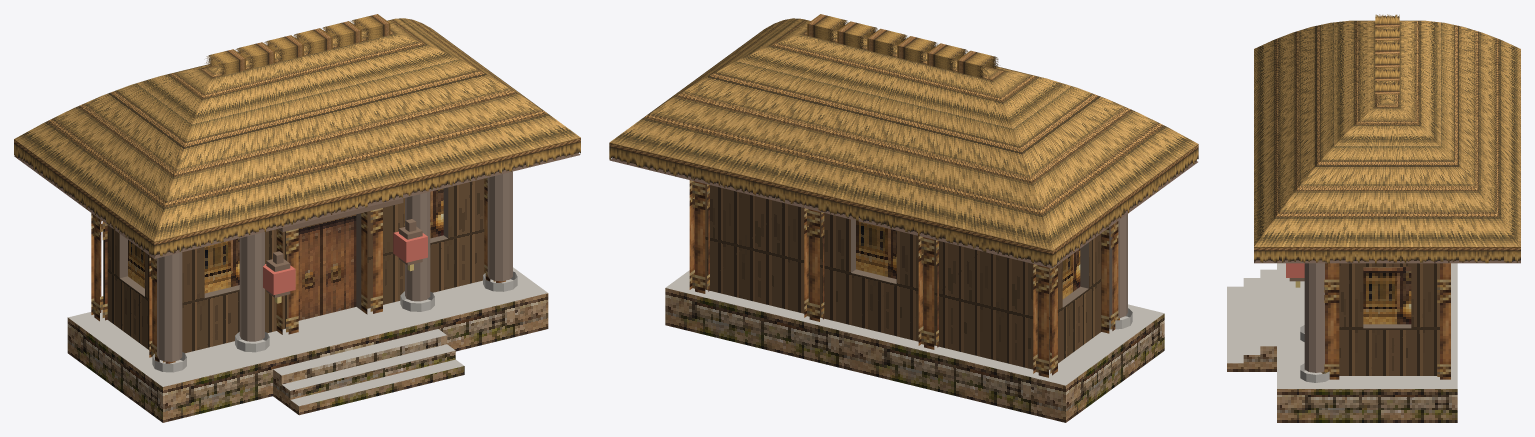
File: g_gaebang_straw.glb
3 views of the same model, side by side, from view 1: azimuth 30°, elevation 25°; view 2: azimuth 150°, elevation 25°; view 3: azimuth 270°, elevation 25° (orthographic). The views are drawn at different scales.
Visible parts, largest first — view 1: roof, stone, stonetop, plaster, col, eave, post, door, ridge, win, under, reveal (+2 smaller); view 2: roof, plaster, stone, post, eave, stonetop, ridge, win, under, col, reveal; view 3: roof, stonetop, plaster, stone, eave, post, win, col, ridge, under, lantern.
Boxes of the visible parts, x1=… form: roof: x1=14, y1=18, x2=580, y2=241; stone: x1=67, y1=293, x2=548, y2=422; stonetop: x1=68, y1=267, x2=547, y2=406; plaster: x1=103, y1=178, x2=484, y2=353; col: x1=157, y1=171, x2=512, y2=361; eave: x1=14, y1=137, x2=580, y2=256; post: x1=91, y1=177, x2=505, y2=363; door: x1=298, y1=214, x2=356, y2=320; ridge: x1=206, y1=14, x2=390, y2=76; win: x1=128, y1=188, x2=443, y2=293; under: x1=14, y1=153, x2=580, y2=258; reveal: x1=119, y1=187, x2=448, y2=309; roof: x1=610, y1=18, x2=1197, y2=250; plaster: x1=705, y1=184, x2=1101, y2=369; stone: x1=665, y1=288, x2=1164, y2=422; post: x1=689, y1=180, x2=1119, y2=377; eave: x1=609, y1=142, x2=1198, y2=267; stonetop: x1=665, y1=270, x2=1164, y2=385; ridge: x1=807, y1=14, x2=998, y2=78; win: x1=856, y1=220, x2=1080, y2=298; under: x1=609, y1=158, x2=1197, y2=268; col: x1=1109, y1=214, x2=1127, y2=318; reveal: x1=851, y1=219, x2=1088, y2=307; roof: x1=1254, y1=20, x2=1520, y2=246; stonetop: x1=1227, y1=263, x2=1457, y2=388; plaster: x1=1339, y1=263, x2=1439, y2=375; stone: x1=1227, y1=346, x2=1457, y2=422; eave: x1=1254, y1=247, x2=1520, y2=263; post: x1=1321, y1=263, x2=1450, y2=379; win: x1=1363, y1=267, x2=1411, y2=324; col: x1=1304, y1=263, x2=1324, y2=372; ridge: x1=1375, y1=14, x2=1399, y2=94; under: x1=1254, y1=260, x2=1520, y2=263; lantern: x1=1286, y1=263, x2=1304, y2=277.
Bounding box in the file's own units: 62.16 × 40.89 × 38.97.
19 materials, 10 textured.
